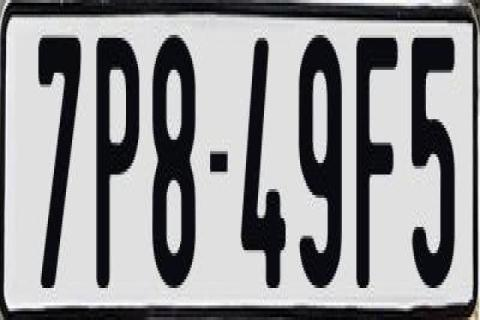0: (237, 29, 286, 291), (149, 29, 197, 288), (38, 35, 84, 291), (408, 32, 452, 294), (300, 27, 344, 280)
F: (356, 32, 398, 288)
P: (96, 29, 140, 291)
